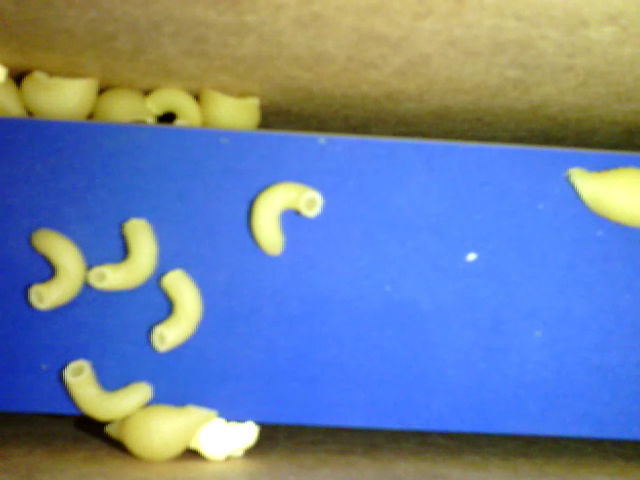elbow: (249, 180, 323, 256), (63, 359, 153, 420), (88, 215, 159, 292), (28, 227, 86, 309), (149, 269, 204, 354), (145, 87, 203, 127)
shell: (103, 404, 218, 462), (568, 165, 639, 230), (17, 70, 100, 118), (201, 84, 260, 129), (94, 87, 157, 123)
